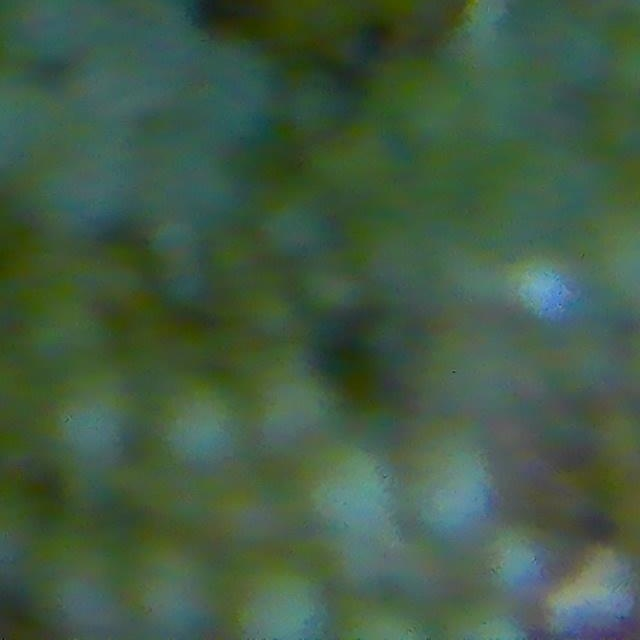SeaGrape: (285, 441, 392, 552), (236, 362, 343, 471), (24, 529, 131, 637), (138, 369, 245, 476), (395, 433, 491, 543), (115, 537, 217, 640), (28, 370, 134, 460), (226, 554, 332, 640), (456, 525, 547, 603), (337, 599, 439, 639), (440, 599, 536, 639)
